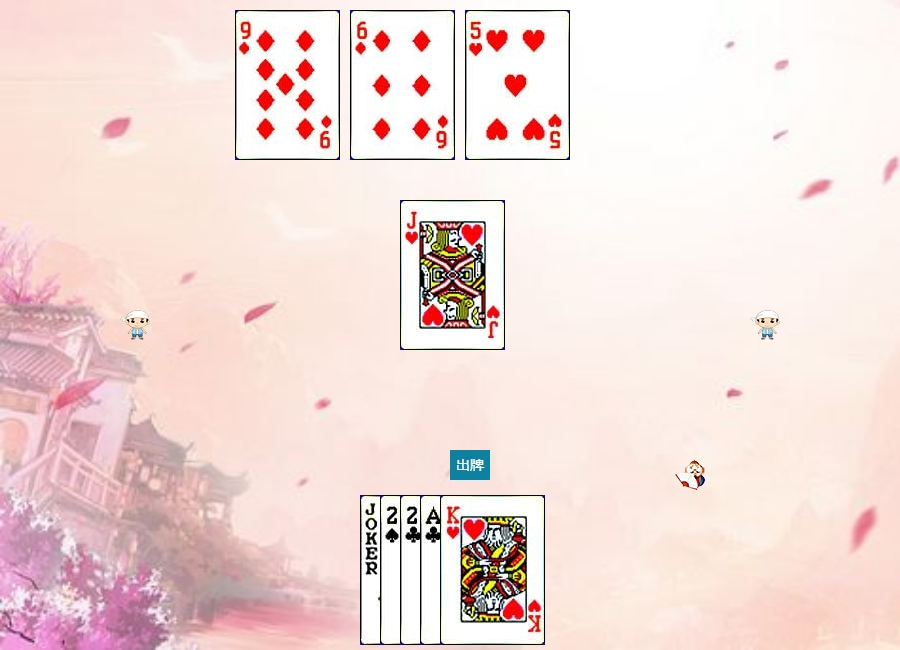11~3: (400, 200, 505, 350)
13~3: (440, 495, 545, 645)
14~2: (420, 495, 525, 645)
15~2: (400, 495, 505, 645)
15~4: (380, 495, 485, 645)
17~3: (360, 495, 465, 645)
5~3: (465, 10, 570, 160)
6~1: (350, 10, 455, 160)
9~1: (235, 10, 340, 160)
